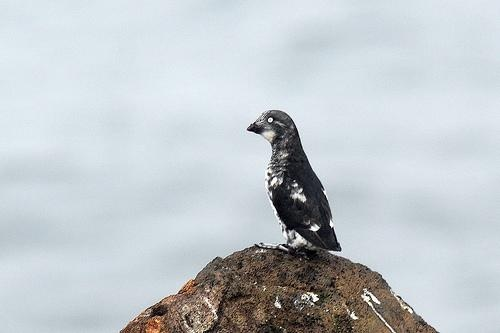bird: (249, 106, 344, 250)
